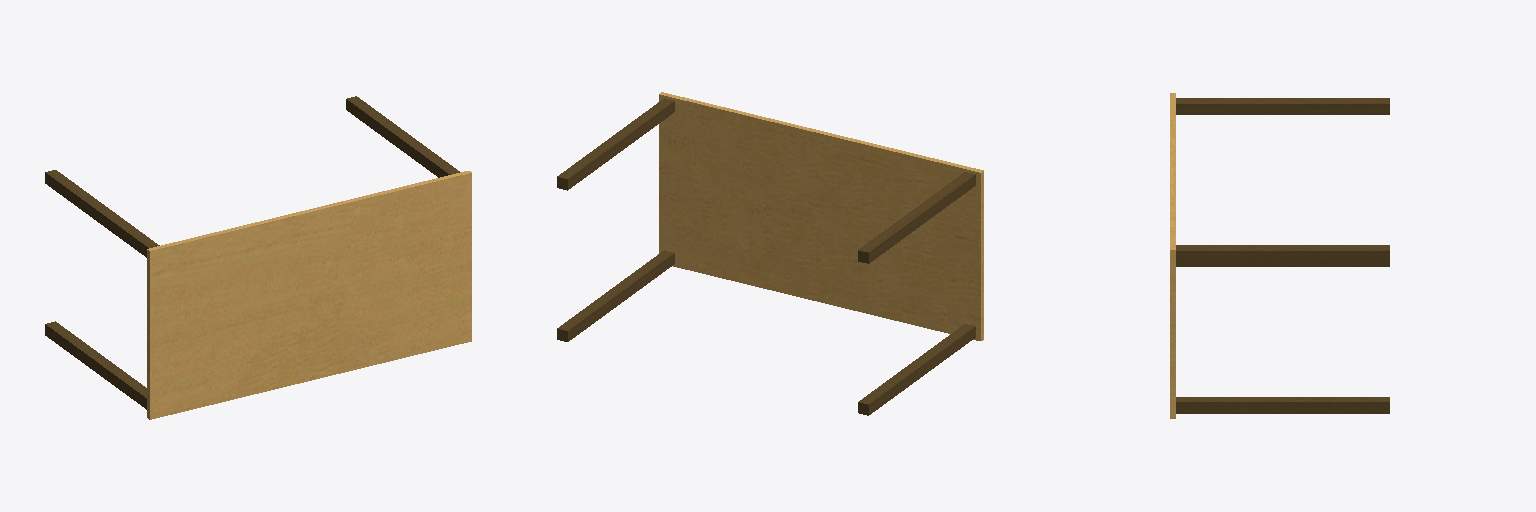
3 renders of one model, left to right at view 1: azimuth 30°, elevation 25°; view 2: azimuth 150°, elevation 25°; view 3: azimuth 270°, elevation 25°, orthographic.
Parts seen in each view (by area): view 1: mat2, mat1; view 2: mat2, mat1; view 3: mat1, mat2.
Boxes of the visible parts, <box> form: mat2: <box>147,171,471,419</box>; mat1: <box>45,96,459,409</box>; mat2: <box>659,92,983,340</box>; mat1: <box>557,98,975,415</box>; mat1: <box>1176,98,1389,413</box>; mat2: <box>1170,93,1175,418</box>.
Bounding box in the file's own units: 1.2 × 0.6 × 0.71.
Materials: 2 (2 with a texture image).